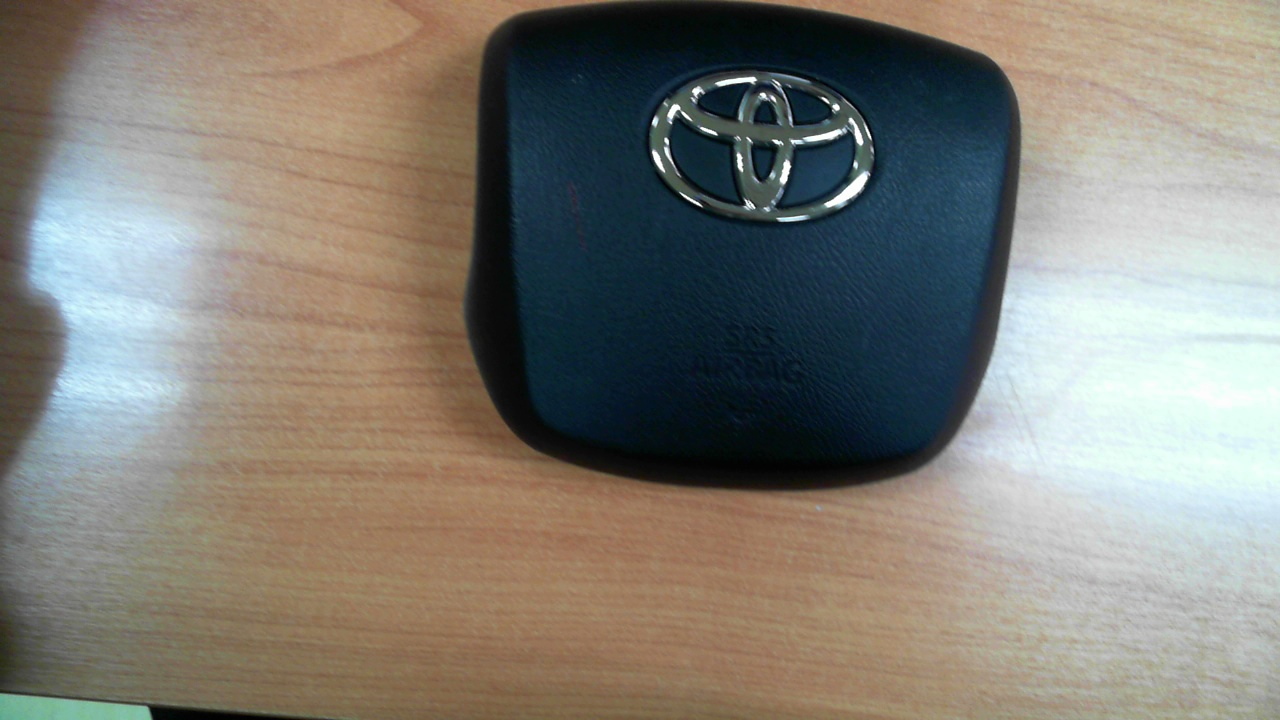Airbag: (462, 1, 1028, 486)
Toyota: (648, 69, 875, 223)
